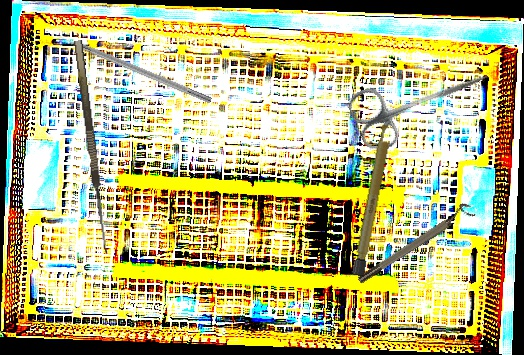Fixation Ring: (353, 200, 476, 286)
Hook Surgical: (50, 28, 213, 105), (74, 38, 120, 254)
Iris Scissors: (344, 44, 499, 157)
Scalpel Handle: (351, 117, 396, 278)
